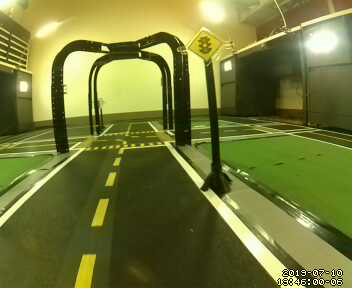Traffic light sign: (188, 25, 219, 58)
